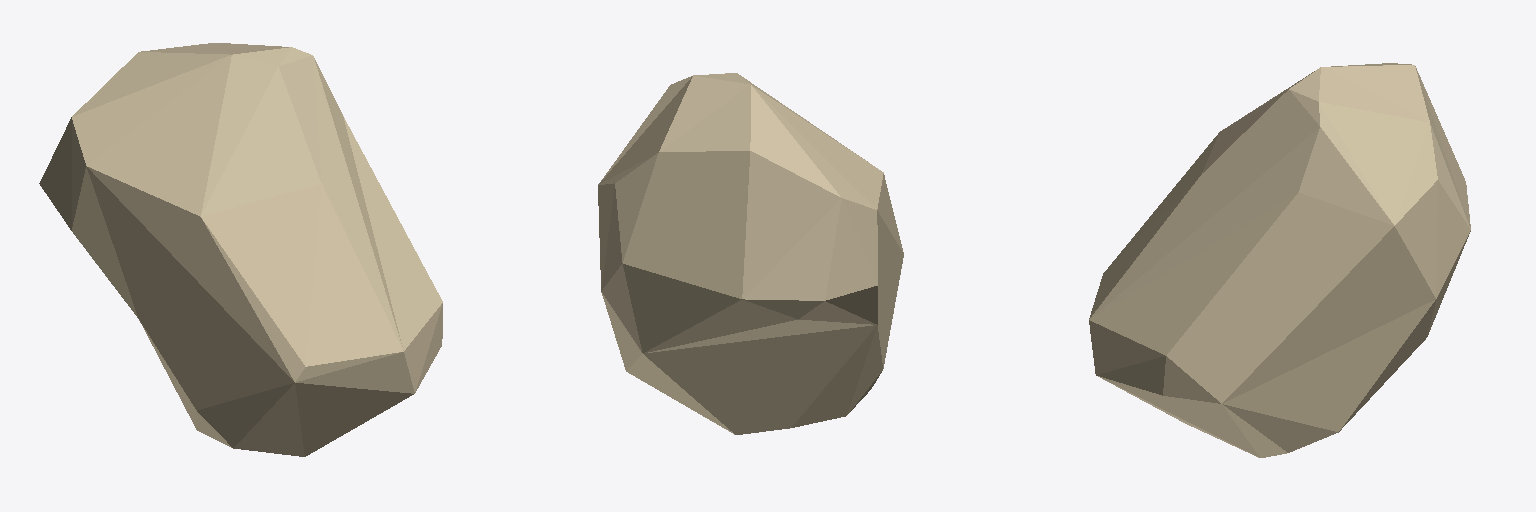
3 renders of one model, left to right at view 1: azimuth 30°, elevation 25°; view 2: azimuth 150°, elevation 25°; view 3: azimuth 270°, elevation 25°, orthographic.
Parts seen in each view (by area): view 1: 右すね; view 2: 右すね; view 3: 右すね.
Boxes of the visible parts, <box> form: 右すね: <box>39,43,442,456</box>; 右すね: <box>598,73,903,434</box>; 右すね: <box>1089,63,1470,457</box>.
Bounding box in the file's own units: 0.6808 × 0.8267 × 0.7649.
Materials: 1 (1 with a texture image).